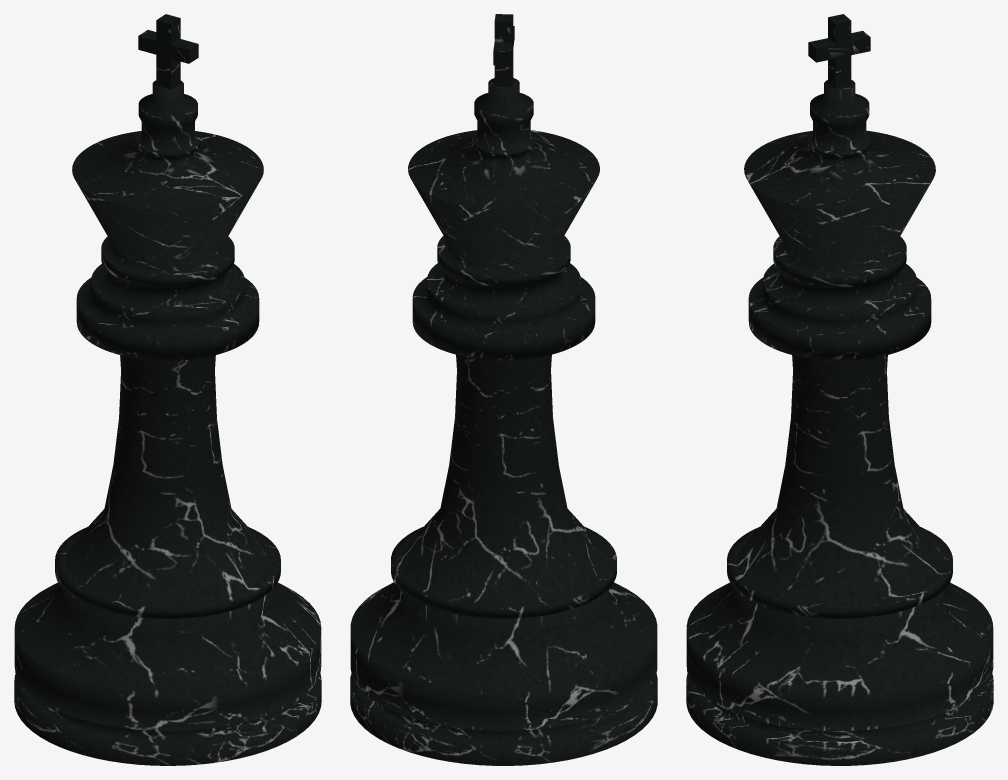
The model's file is chess_piece_king.glb.
3 renders of one model, left to right at view 1: azimuth 30°, elevation 25°; view 2: azimuth 150°, elevation 25°; view 3: azimuth 270°, elevation 25°, orthographic.
Visible parts, largest first — view 1: Circle; view 2: Circle; view 3: Circle.
Boxes of the visible parts, box(x1,y1,x2,y2) form: Circle: box(14, 14, 321, 765); Circle: box(350, 14, 657, 765); Circle: box(686, 14, 993, 765).
Bounding box in the file's own units: 80.83 × 198 × 80.83.
1 material, 1 textured.
